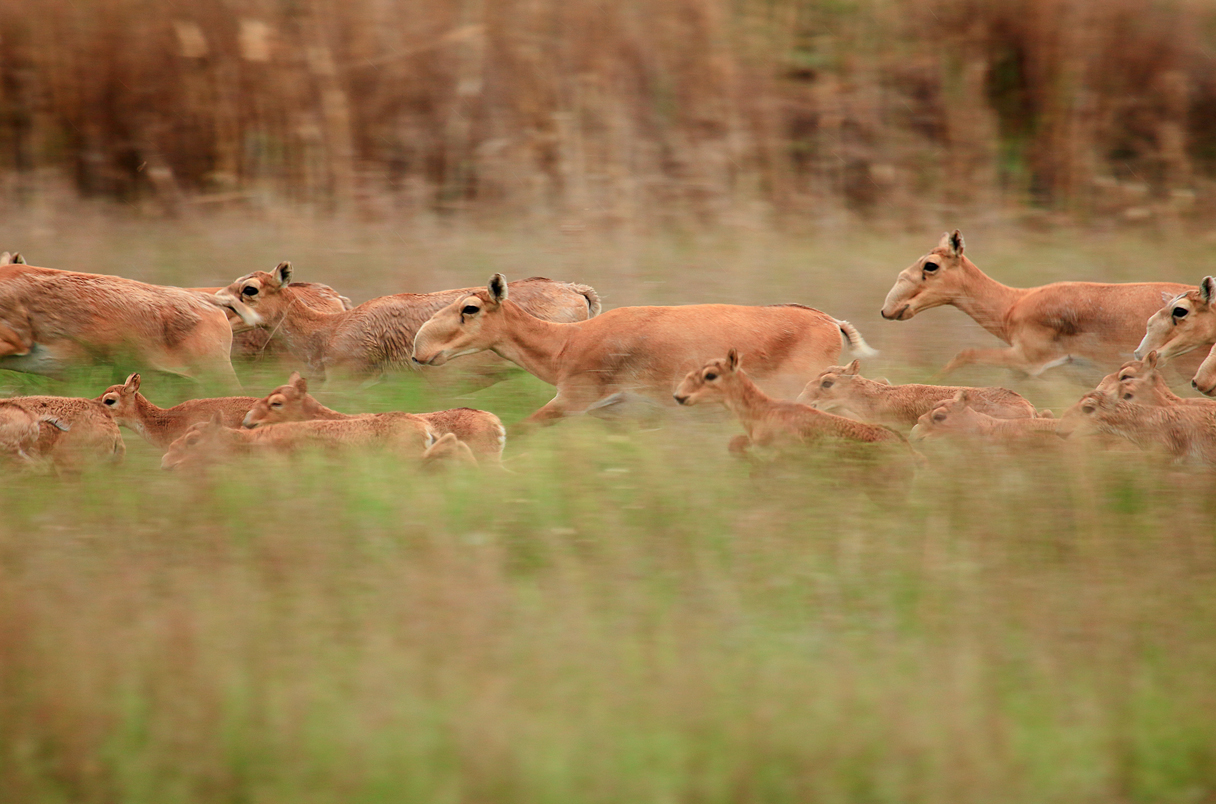saiga: (408, 280, 877, 427)
